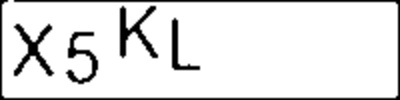5: (64, 27, 99, 84)
K: (114, 2, 163, 61)
L: (166, 17, 204, 75)
X: (11, 19, 60, 79)
